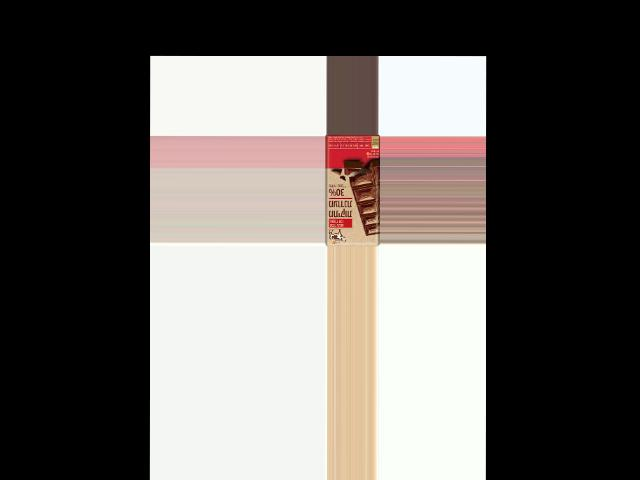chocolate: (324, 135, 379, 246)
